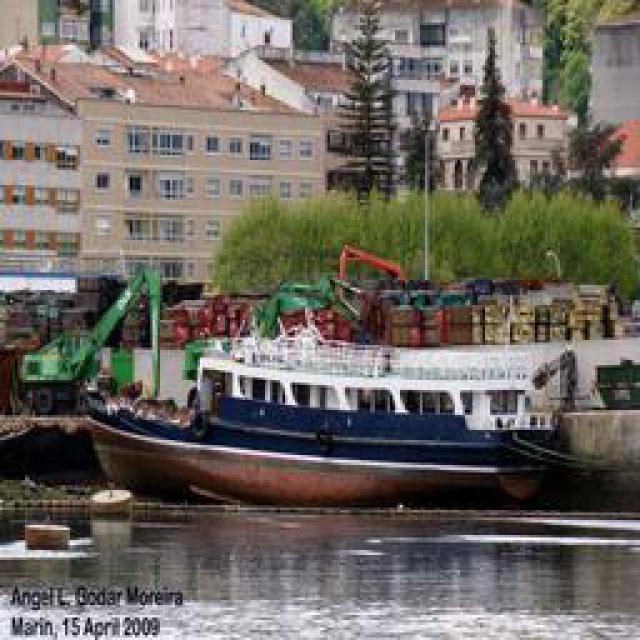Ship: (109, 362, 572, 505)
